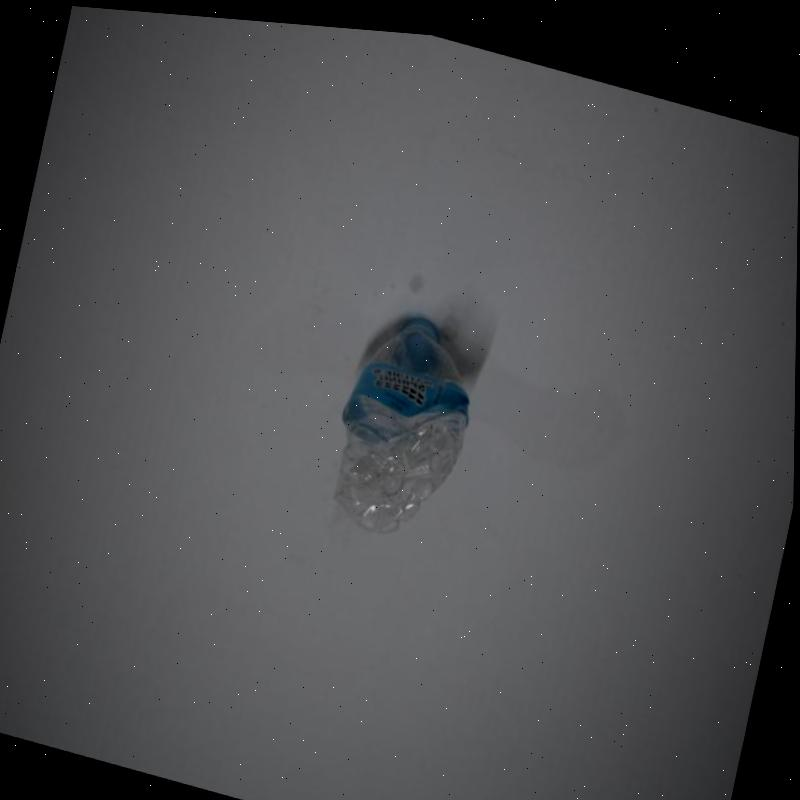botella: (322, 290, 489, 542)
